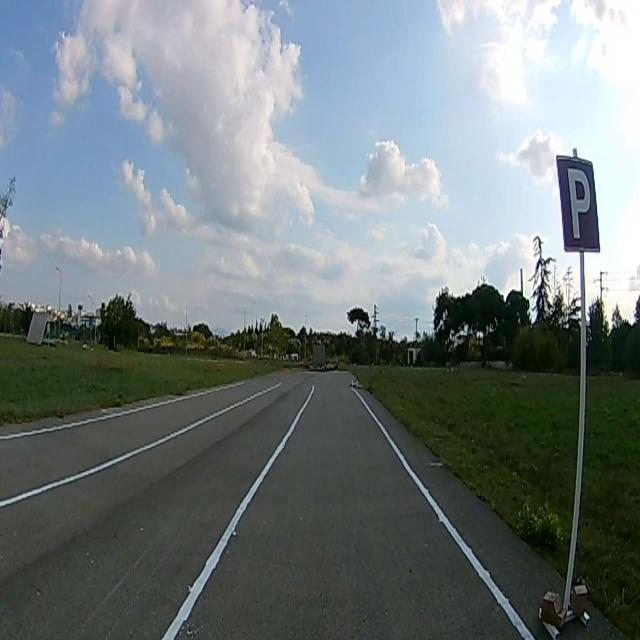park: (555, 155, 599, 249)
